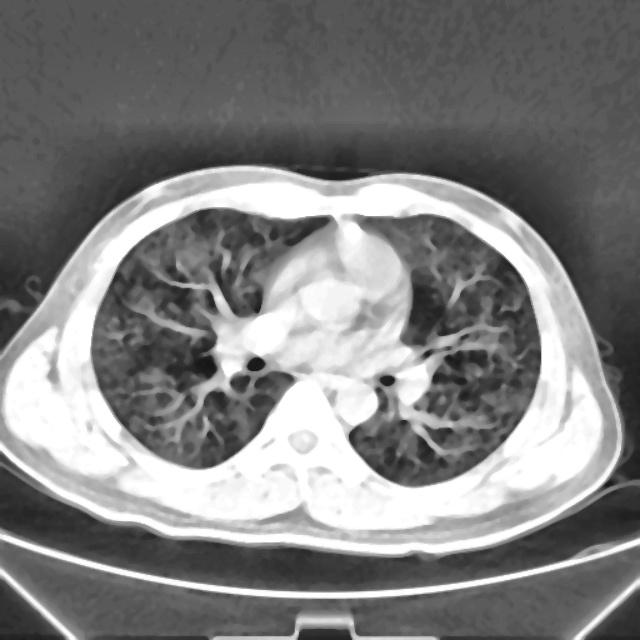covid: (1, 164, 626, 558)
